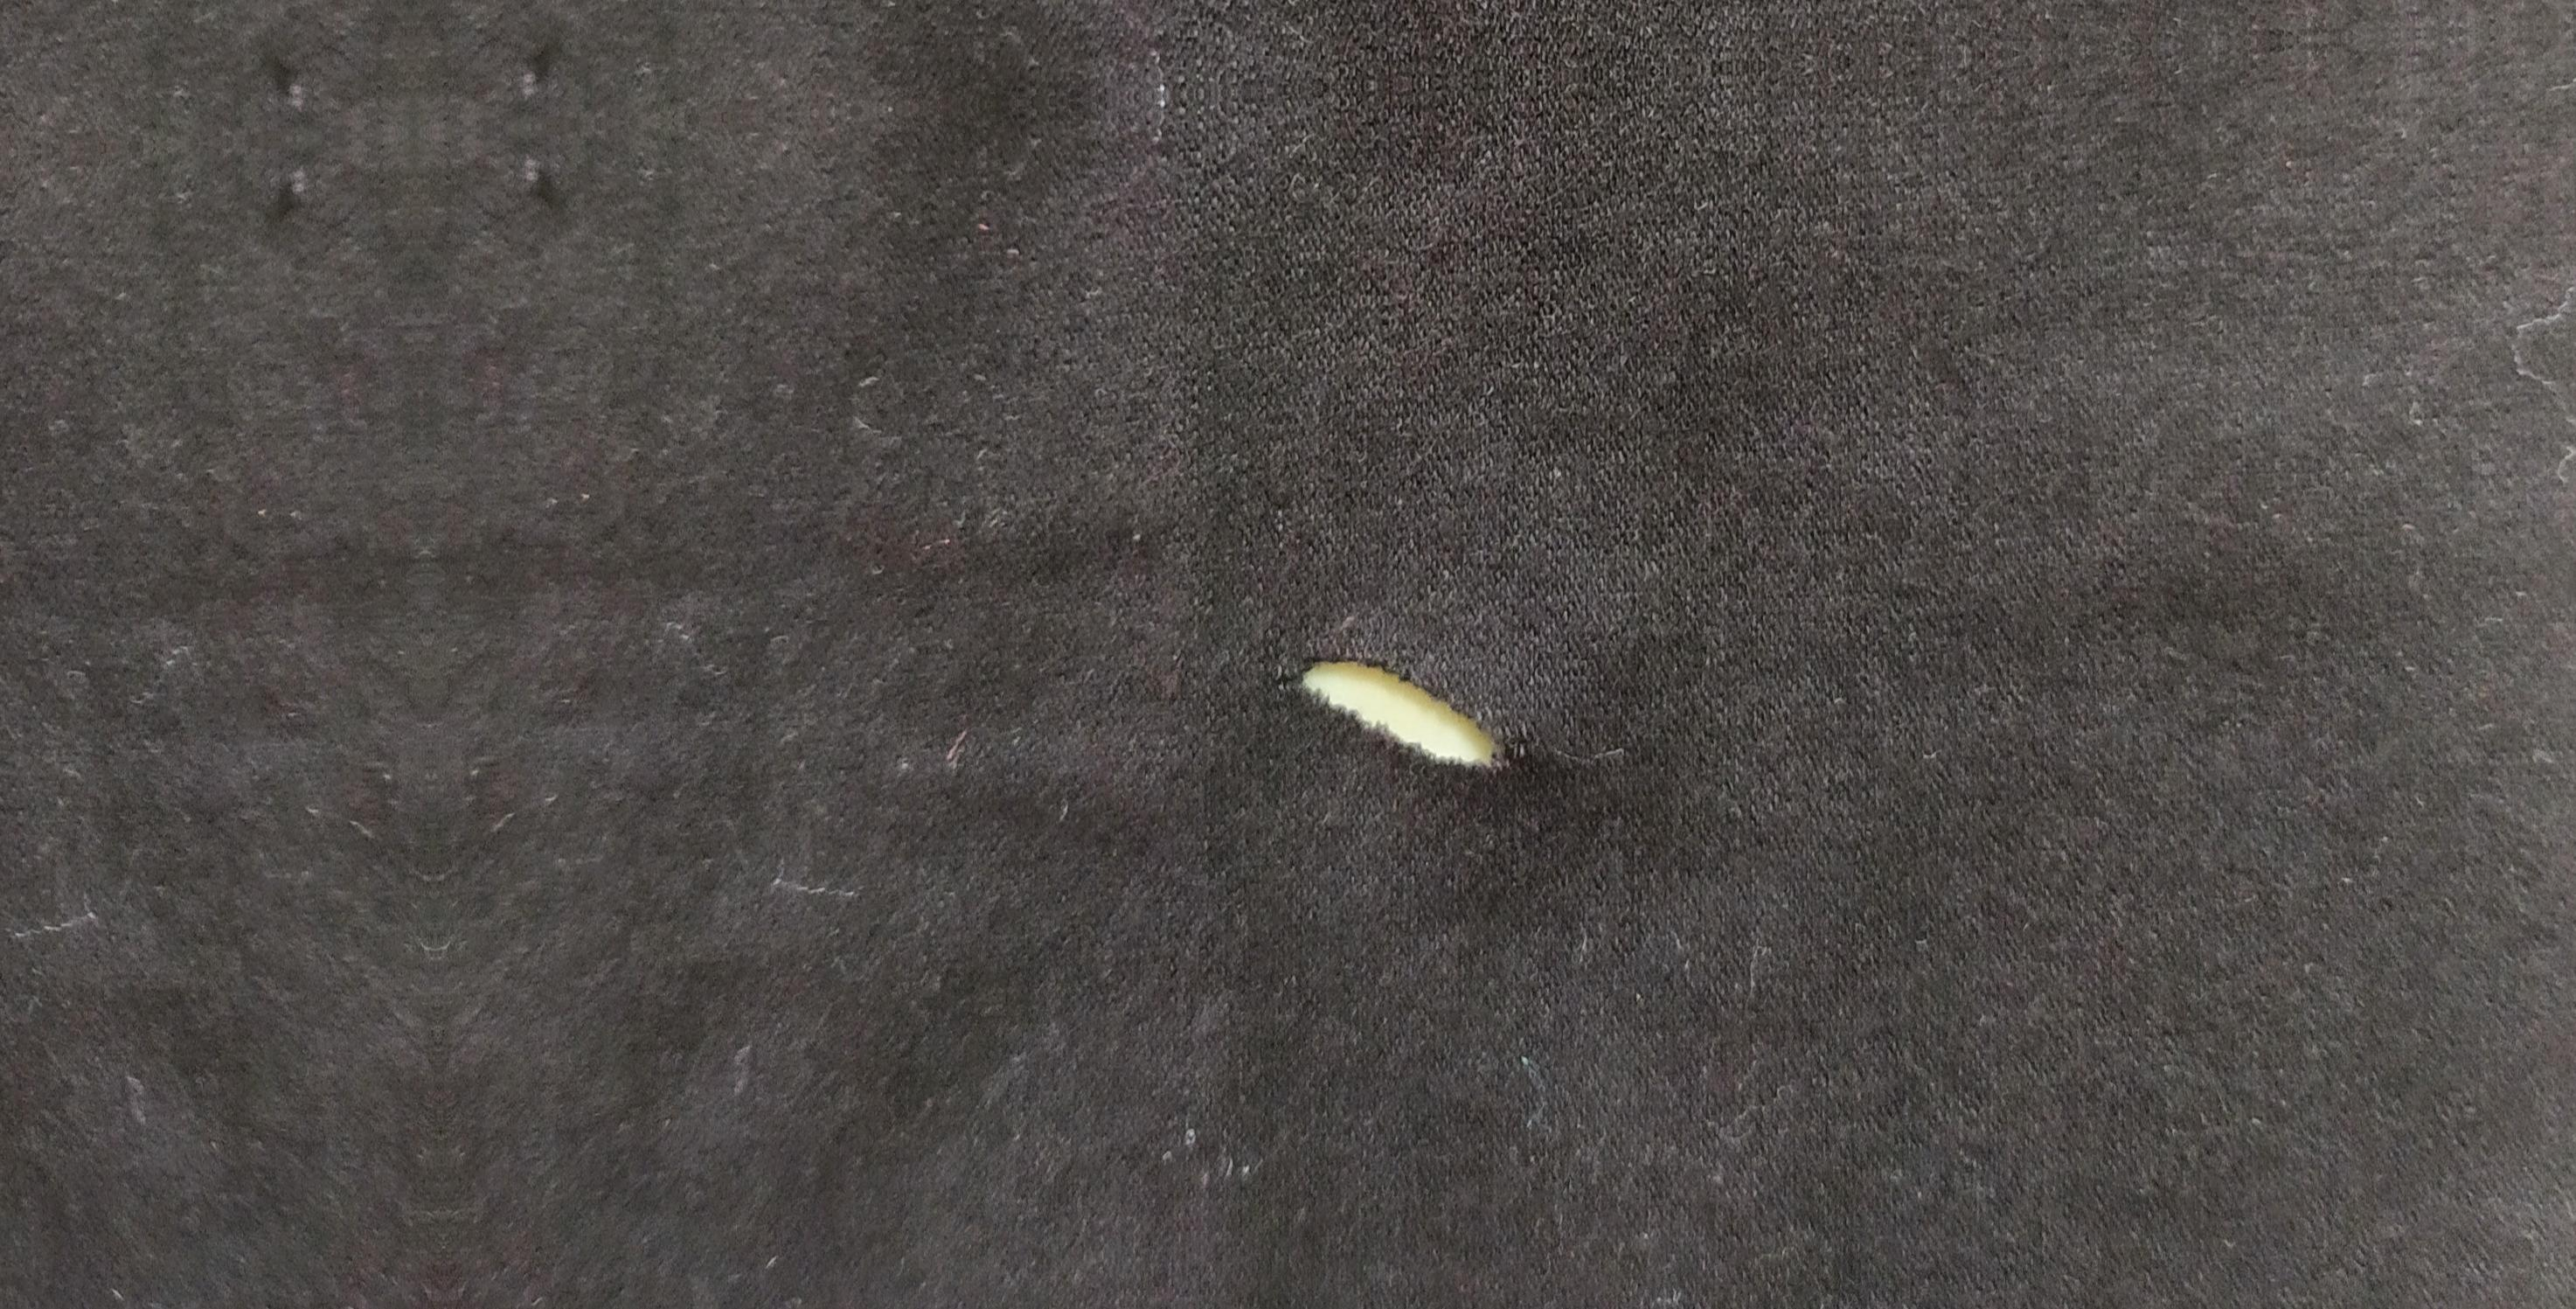hole: (1255, 624, 1527, 796)
